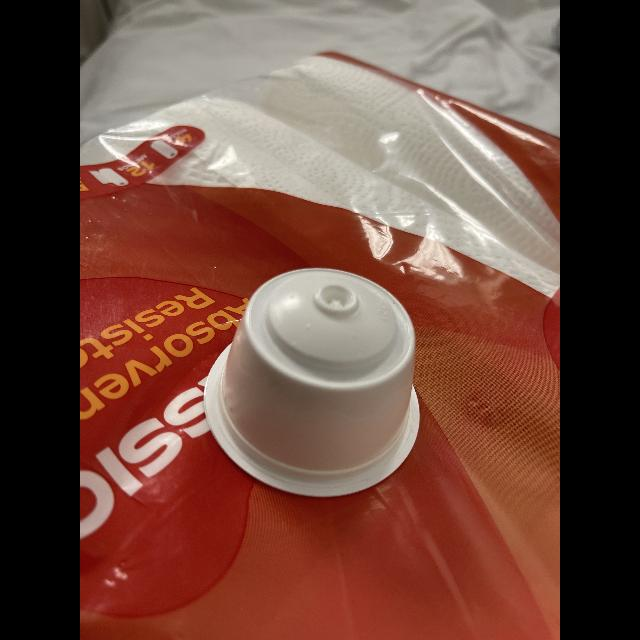intact_capsule: (194, 253, 430, 505)
